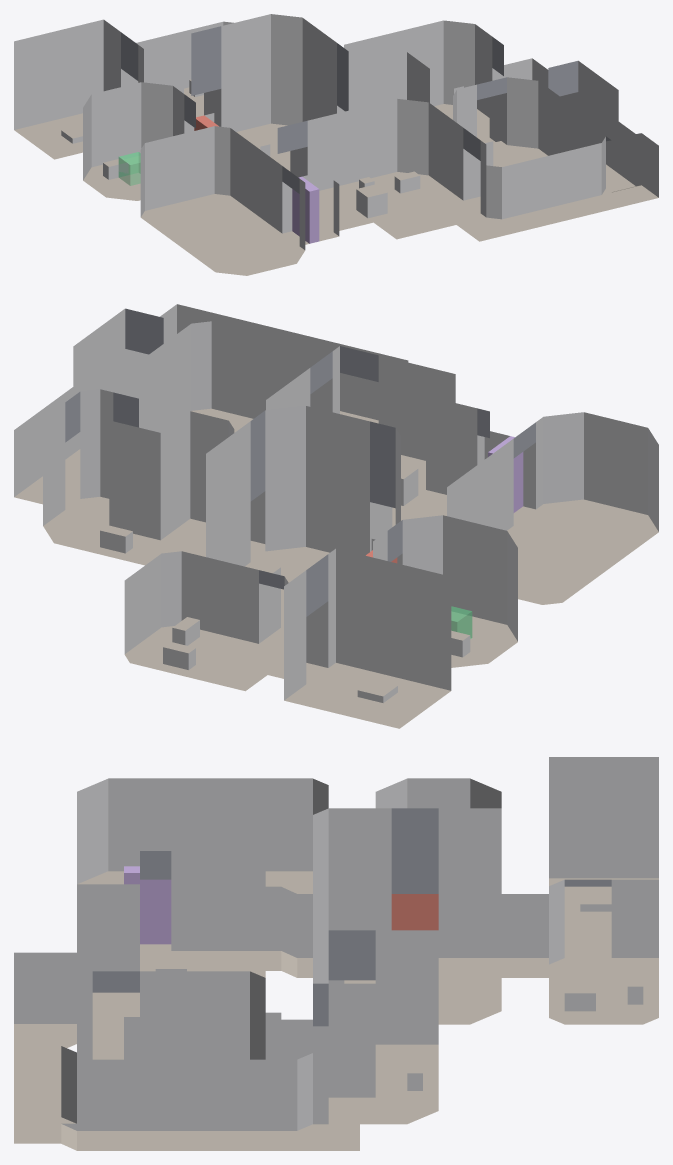
File: deck_07.glb
The picture shows the model from 3 angles, top to bottom: view 1: azimuth 30°, elevation 25°; view 2: azimuth 150°, elevation 25°; view 3: azimuth 270°, elevation 25°; orthographic projection. The views are drawn at different scales.
Parts seen in each view (by area): view 1: room:6, room:7, corridor:7, room:2, room:5, room:1, room:3, room:0, room:4, entities, corridor:6, corridor:8 (+3 smaller); view 2: room:2, room:7, room:5, room:1, room:4, room:6, room:0, corridor:7, room:3, corridor:4, corridor:6, corridor:3 (+4 smaller); view 3: corridor:7, room:2, room:1, room:7, room:6, room:5, room:4, room:0, entities, corridor:5, corridor:3, room:3 (+2 smaller).
Boxes of the visible parts, x1=… form: room:6: x1=277, y1=99, x2=486, y2=239; room:7: x1=140, y1=126, x2=305, y2=275; corridor:7: x1=457, y1=58, x2=658, y2=241; room:2: x1=191, y1=14, x2=348, y2=171; room:5: x1=14, y1=19, x2=143, y2=159; room:1: x1=344, y1=20, x2=503, y2=139; room:3: x1=83, y1=82, x2=195, y2=200; room:0: x1=453, y1=77, x2=590, y2=166; room:4: x1=136, y1=21, x2=233, y2=117; entities: x1=118, y1=115, x2=319, y2=243; corridor:6: x1=282, y1=174, x2=339, y2=245; corridor:8: x1=463, y1=141, x2=493, y2=212; room:2: x1=206, y1=406, x2=400, y2=628; room:7: x1=447, y1=412, x2=658, y2=604; room:5: x1=284, y1=548, x2=451, y2=728; room:1: x1=43, y1=389, x2=234, y2=565; room:4: x1=124, y1=551, x2=288, y2=691; room:6: x1=266, y1=346, x2=489, y2=526; room:0: x1=124, y1=321, x2=301, y2=432; corridor:7: x1=14, y1=304, x2=408, y2=509; room:3: x1=373, y1=515, x2=517, y2=667; corridor:4: x1=268, y1=601, x2=328, y2=683; corridor:6: x1=477, y1=431, x2=535, y2=525; corridor:3: x1=259, y1=567, x2=283, y2=649; corridor:7: x1=14, y1=952, x2=359, y2=1150; room:2: x1=313, y1=808, x2=501, y2=1024; room:1: x1=313, y1=930, x2=438, y2=1124; room:7: x1=77, y1=778, x2=328, y2=893; room:6: x1=77, y1=851, x2=265, y2=1043; room:5: x1=549, y1=757, x2=658, y2=937; room:4: x1=549, y1=879, x2=658, y2=1024; room:0: x1=77, y1=971, x2=265, y2=1059; entities: x1=124, y1=866, x2=438, y2=944; corridor:5: x1=265, y1=886, x2=312, y2=977; corridor:3: x1=501, y1=894, x2=548, y2=977; room:3: x1=375, y1=778, x2=501, y2=808.
Bounding box in the file's own units: 41 × 10.5 × 41.
